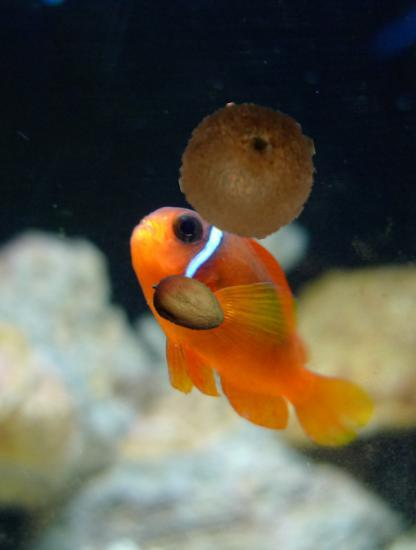Kiwi: (178, 101, 318, 241)
Papaya: (150, 264, 228, 342)
